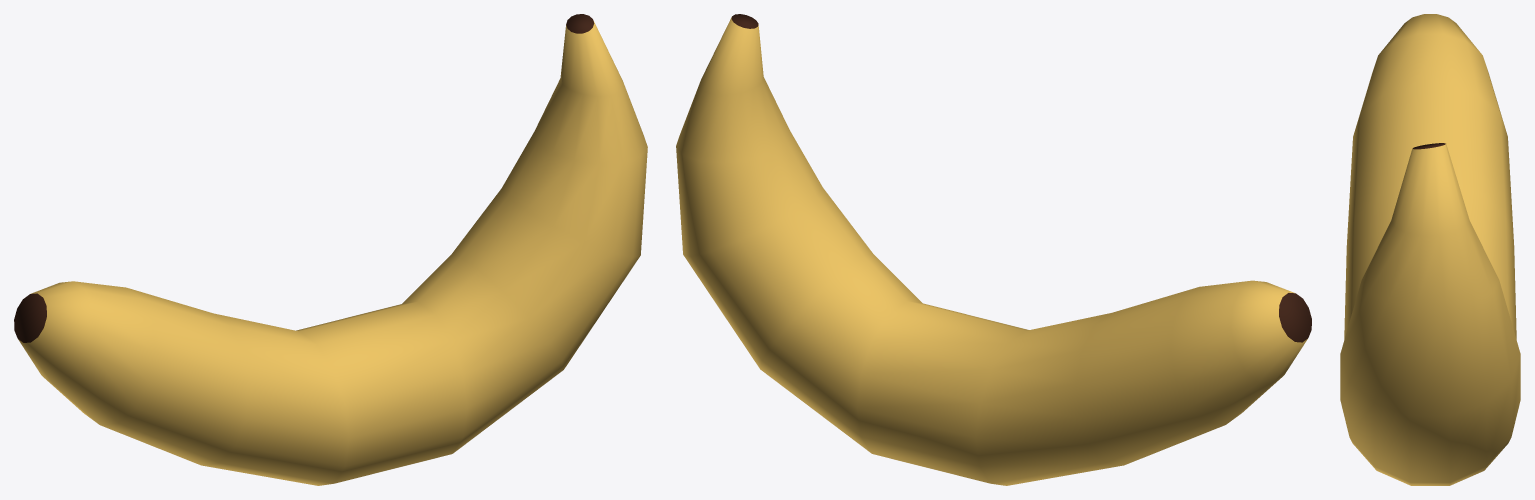
File: Prop_Banana.fbx
The picture shows the model from 3 angles, left to right: view 1: azimuth 30°, elevation 25°; view 2: azimuth 150°, elevation 25°; view 3: azimuth 270°, elevation 25°; orthographic projection. The views are drawn at different scales.
Visible parts, largest first — view 1: Cylinder.008; view 2: Cylinder.008; view 3: Cylinder.008.
Part boxes in pixels (<box>): Cylinder.008: <box>14,14,647,485</box>; Cylinder.008: <box>676,14,1311,485</box>; Cylinder.008: <box>1340,14,1520,485</box>.
Bounding box in the file's own units: 29.82 × 18.22 × 6.99.
